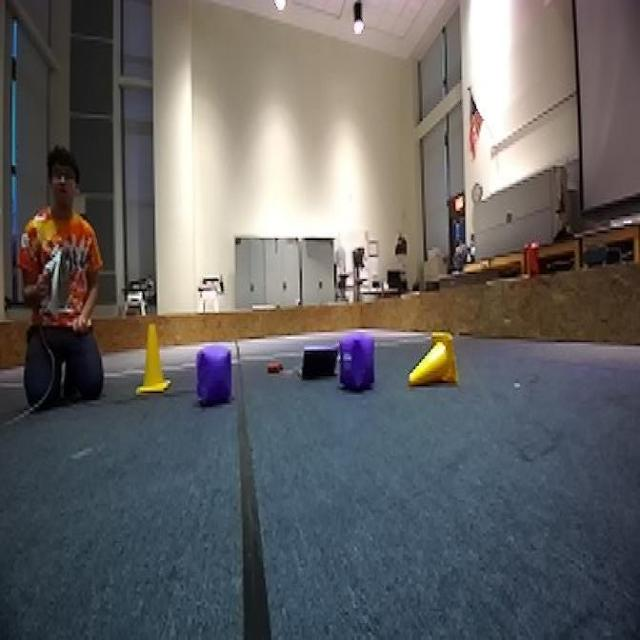frc_cone: (406, 326, 462, 396), (136, 323, 172, 395)
frc_cube: (196, 337, 234, 414), (337, 332, 377, 395)
